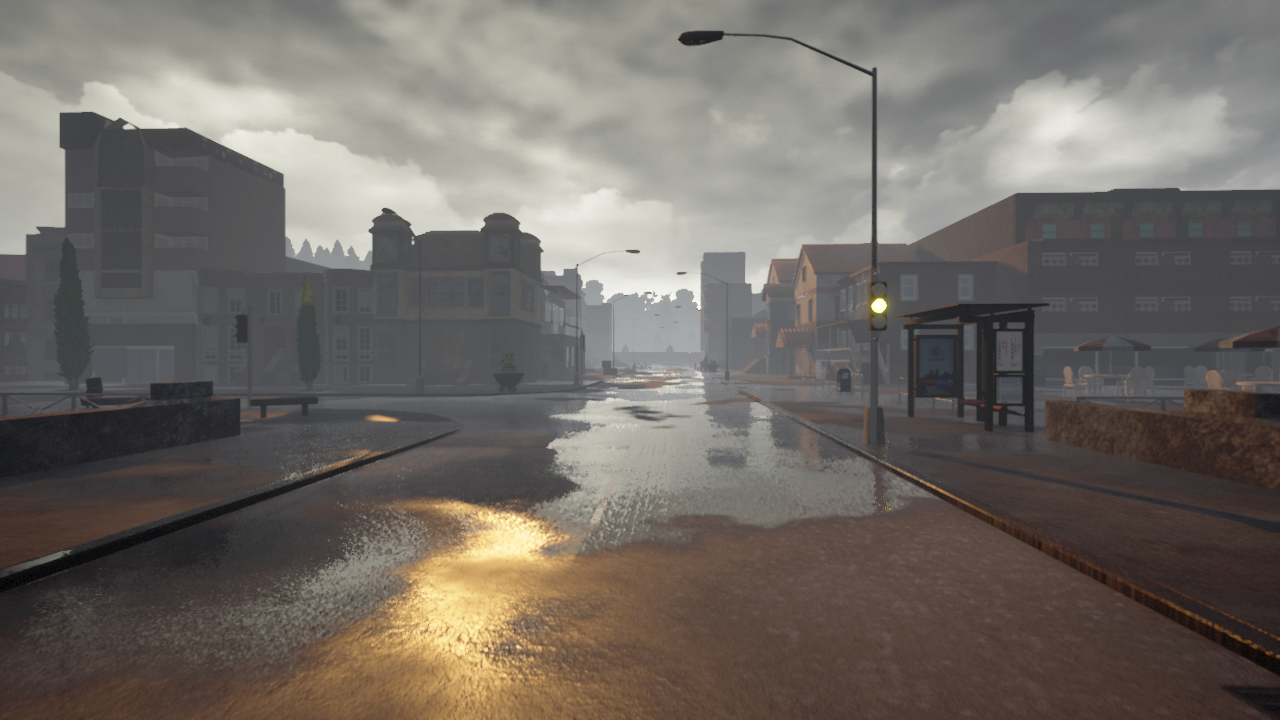yellow: (867, 280, 889, 330)
